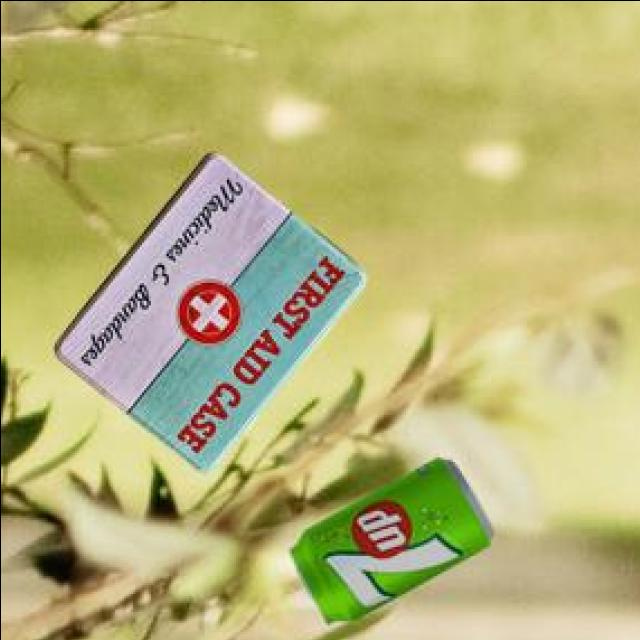logam: (57, 156, 368, 473), (292, 462, 496, 625)
